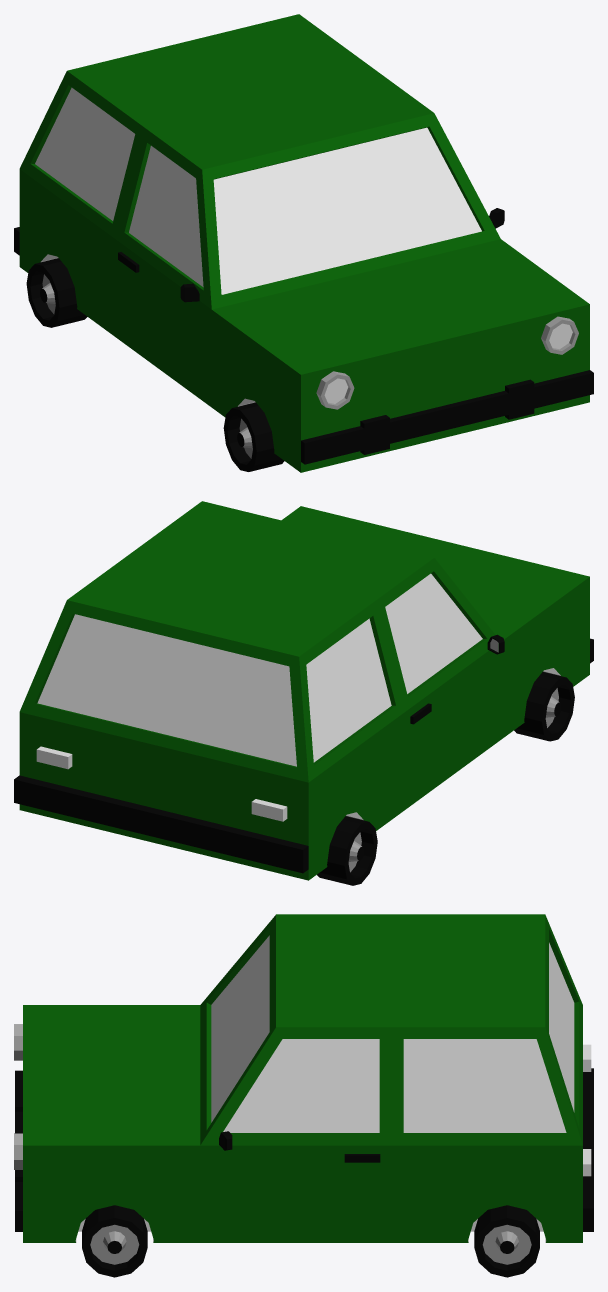
The model's file is suv.fbx.
3 views of the same model, one above another, from view 1: azimuth 30°, elevation 25°; view 2: azimuth 150°, elevation 25°; view 3: azimuth 270°, elevation 25° (orthographic).
Visible parts, largest first — view 1: car_cody; view 2: car_cody; view 3: car_cody.
Part boxes in pixels (x1=…): car_cody: x1=14, y1=14, x2=593, y2=472; car_cody: x1=14, y1=501, x2=593, y2=885; car_cody: x1=14, y1=914, x2=593, y2=1277.
Bounding box in the file's own units: 223 × 152 × 349.
